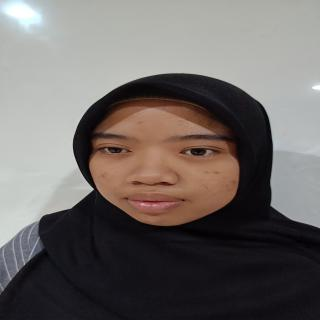Netral: (81, 96, 254, 230)
